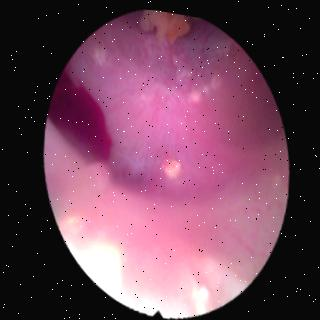stone: (138, 8, 186, 40), (160, 155, 177, 174)
tissue: (45, 17, 282, 293)
